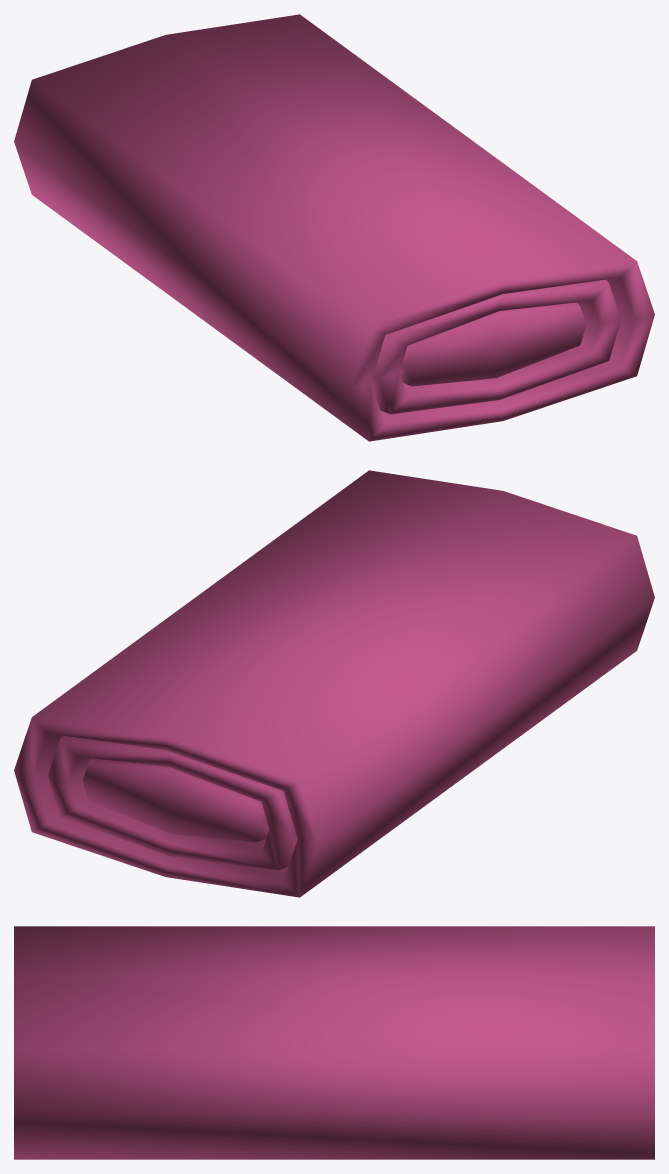
File: rpgpp_ag_carpet_02c.fbx
3 views of the same model, one above another, from view 1: azimuth 30°, elevation 25°; view 2: azimuth 150°, elevation 25°; view 3: azimuth 270°, elevation 25° (orthographic). The views are drawn at different scales.
Parts seen in each view (by area): view 1: rpgpp_ag_carpet_02c; view 2: rpgpp_ag_carpet_02c; view 3: rpgpp_ag_carpet_02c.
Part boxes in pixels (<box>): rpgpp_ag_carpet_02c: <box>14,14,654,441</box>; rpgpp_ag_carpet_02c: <box>14,470,654,897</box>; rpgpp_ag_carpet_02c: <box>14,926,654,1159</box>.
Bounding box in the file's own units: 0.52 × 0.2281 × 1.
